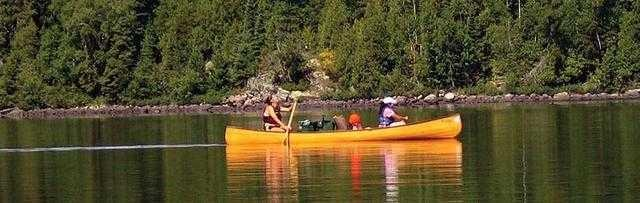kayak: (224, 114, 463, 148)
